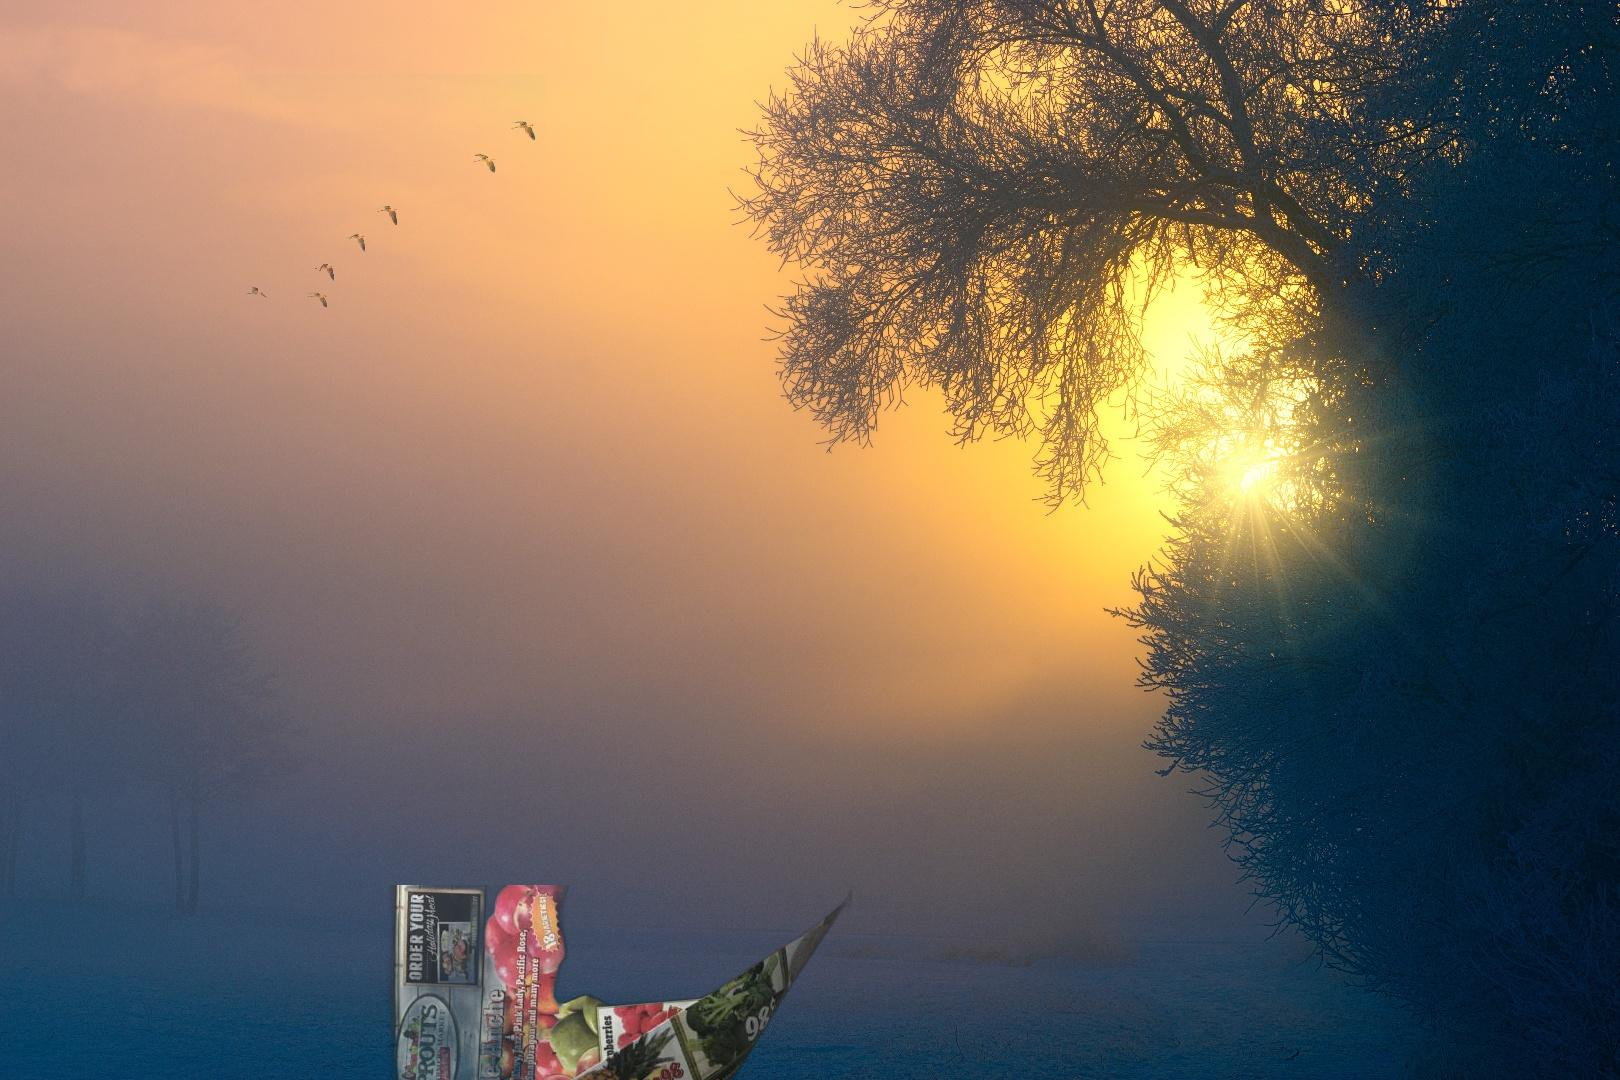paper: (340, 885, 852, 1080)
